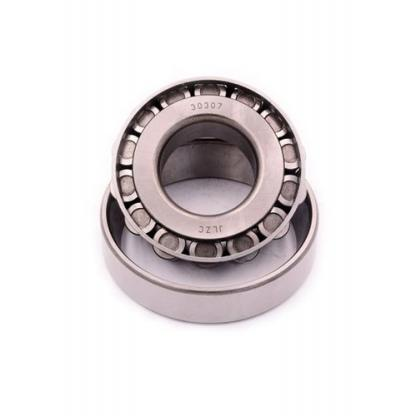FOD: (95, 73, 322, 329)
